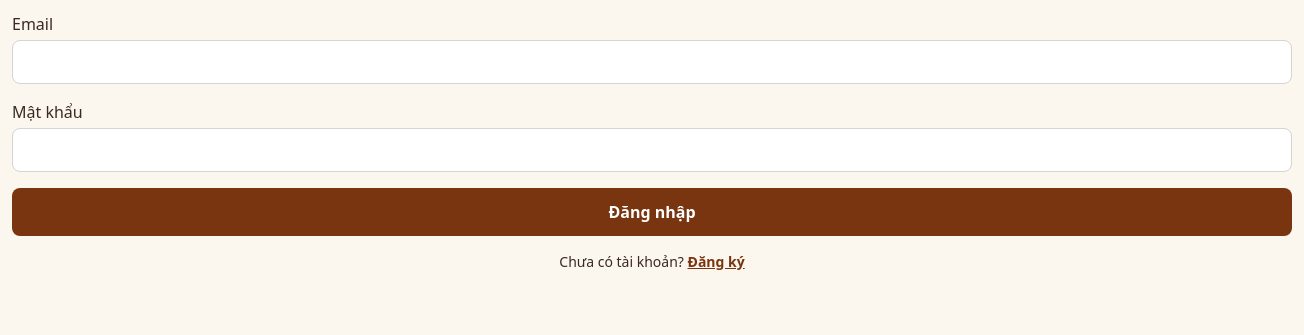
Test: Màn đăng nhập (CT-46 – CT-48) › CT-46: bỏ trống hoặc email sai thì báo lỗi tiếng Việt, không gọi API
Step 1. Type "khach@" into the field labelled "Email" → (652, 62), box [12,40,1292,84]
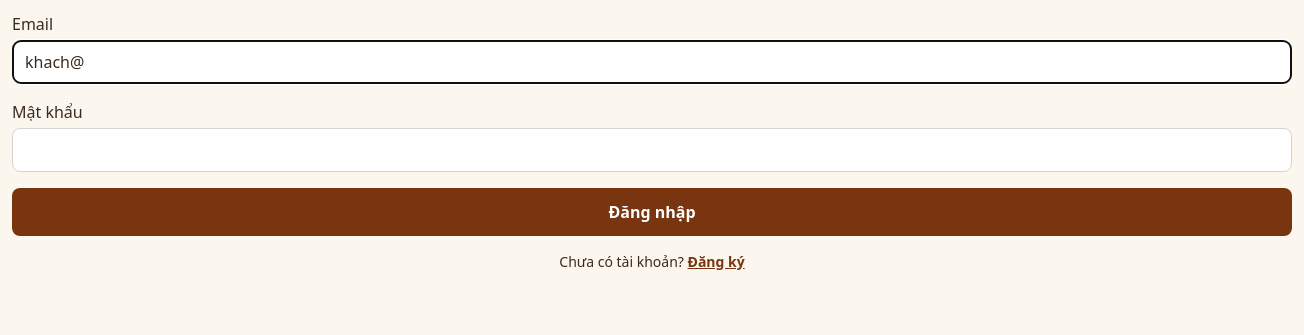
Step 2. Click the button "Đăng nhập" → (652, 212), box [12,188,1292,236]
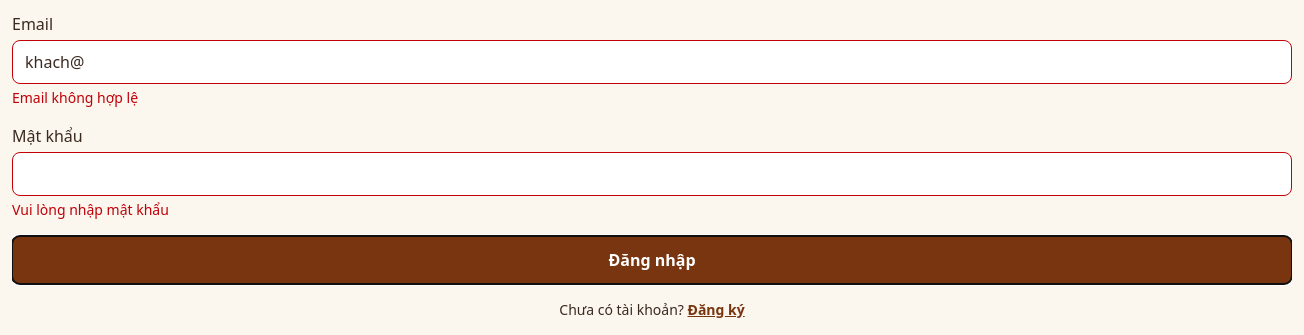
Now the text "Email không hợp lệ" is shown, box [12,88,138,107]
Now the text "Vui lòng nhập mật khẩu" is shown, box [12,200,169,219]
